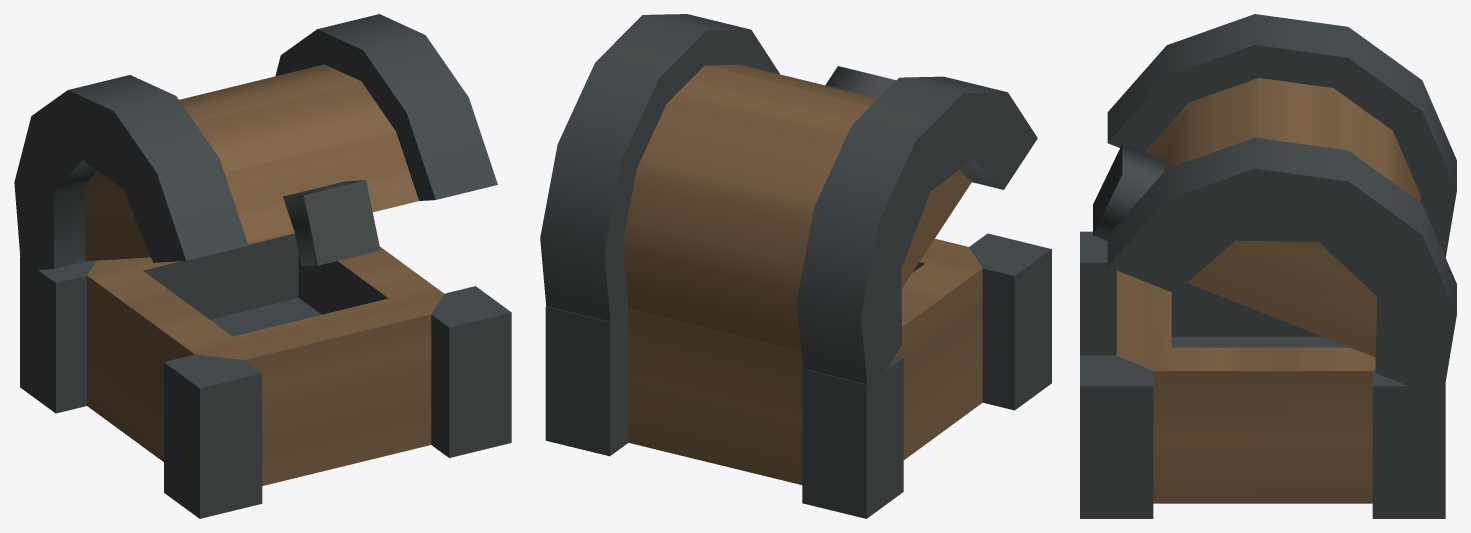
File: chest.glb
3 renders of one model, left to right at view 1: azimuth 30°, elevation 25°; view 2: azimuth 150°, elevation 25°; view 3: azimuth 270°, elevation 25°, orthographic. The views are drawn at different scales.
Visible parts, largest first — view 1: Treasure Chest; view 2: Treasure Chest; view 3: Treasure Chest.
Part boxes in pixels (<box>): Treasure Chest: <box>14,14,511,518</box>; Treasure Chest: <box>540,14,1051,518</box>; Treasure Chest: <box>1080,14,1456,518</box>.
Size of the model in its own units: 0.5334 by 0.5638 by 0.5496.
Materials: 2 (1 with a texture image).
